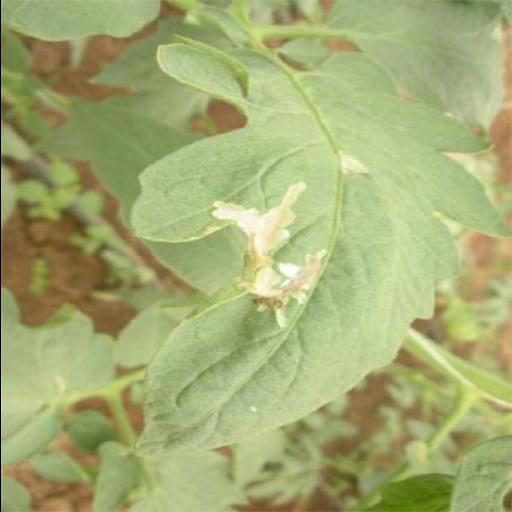Leaf Miner: (133, 39, 512, 461)
